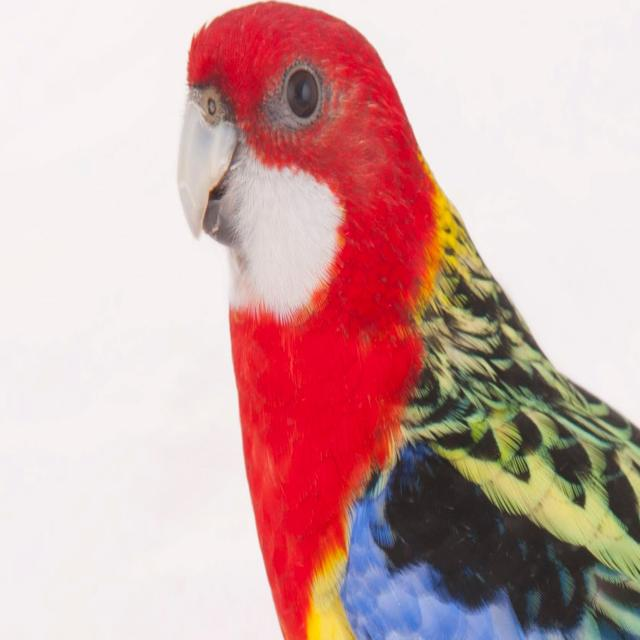Parrot: (178, 0, 640, 640)
